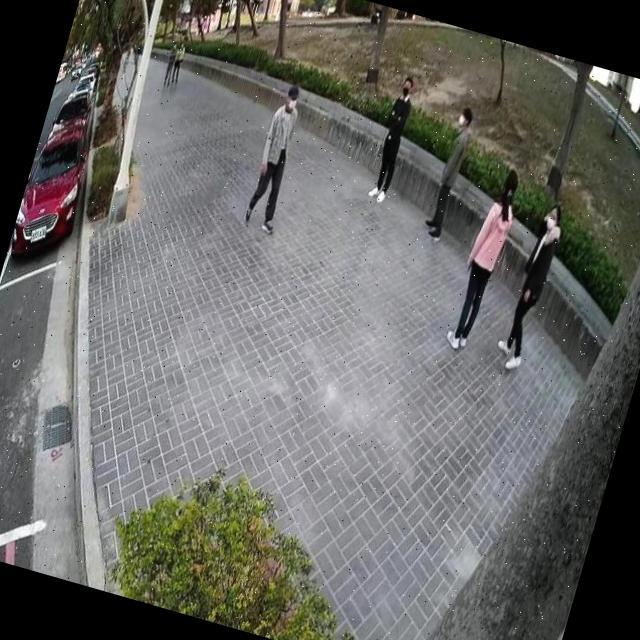person: (441, 157, 531, 357), (490, 192, 574, 376), (240, 78, 317, 240), (420, 100, 482, 245), (362, 70, 423, 206), (160, 38, 182, 88), (168, 36, 190, 86)
